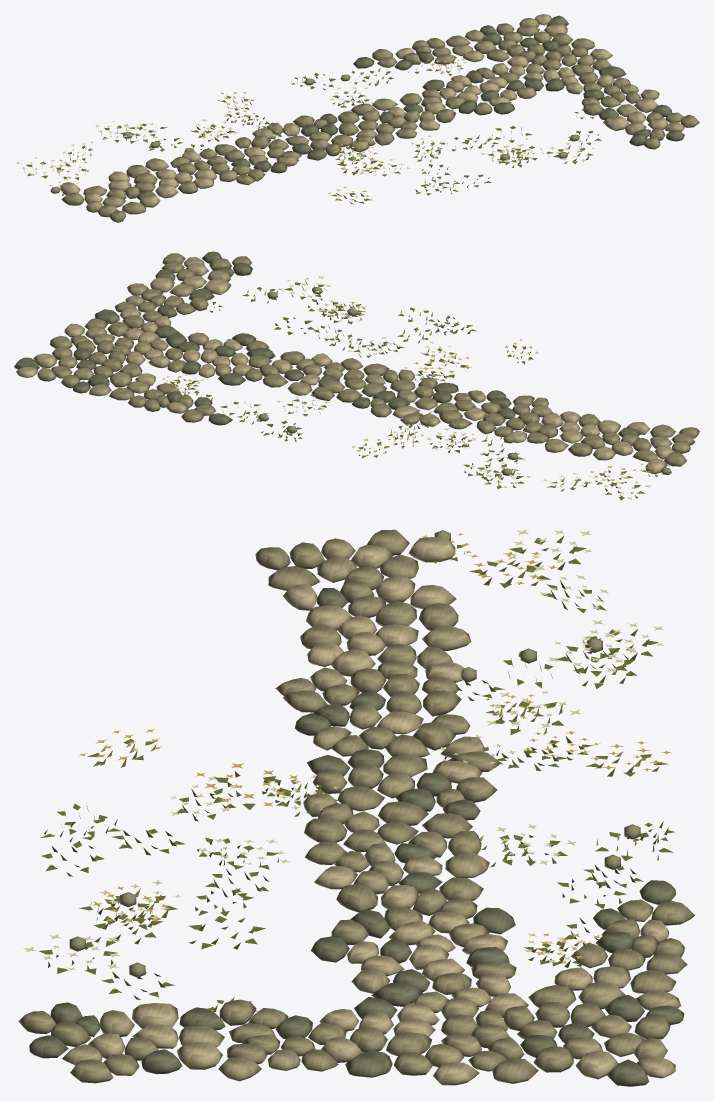
File: detail-patch-04-03.fbx
The picture shows the model from 3 angles, top to bottom: view 1: azimuth 30°, elevation 25°; view 2: azimuth 150°, elevation 25°; view 3: azimuth 270°, elevation 25°; orthographic projection. The views are drawn at different scales.
Parts seen in each view (by area): view 1: detail-patch-04-03__Geometry; view 2: detail-patch-04-03__Geometry; view 3: detail-patch-04-03__Geometry.
Part boxes in pixels (x1,y1,x2,y2): detail-patch-04-03__Geometry: (15,14,699,222); detail-patch-04-03__Geometry: (14,251,699,500); detail-patch-04-03__Geometry: (18,529,695,1086).
Bounding box in the file's own units: 10.16 × 0.1207 × 5.28.
Materials: 1 (1 with a texture image).
